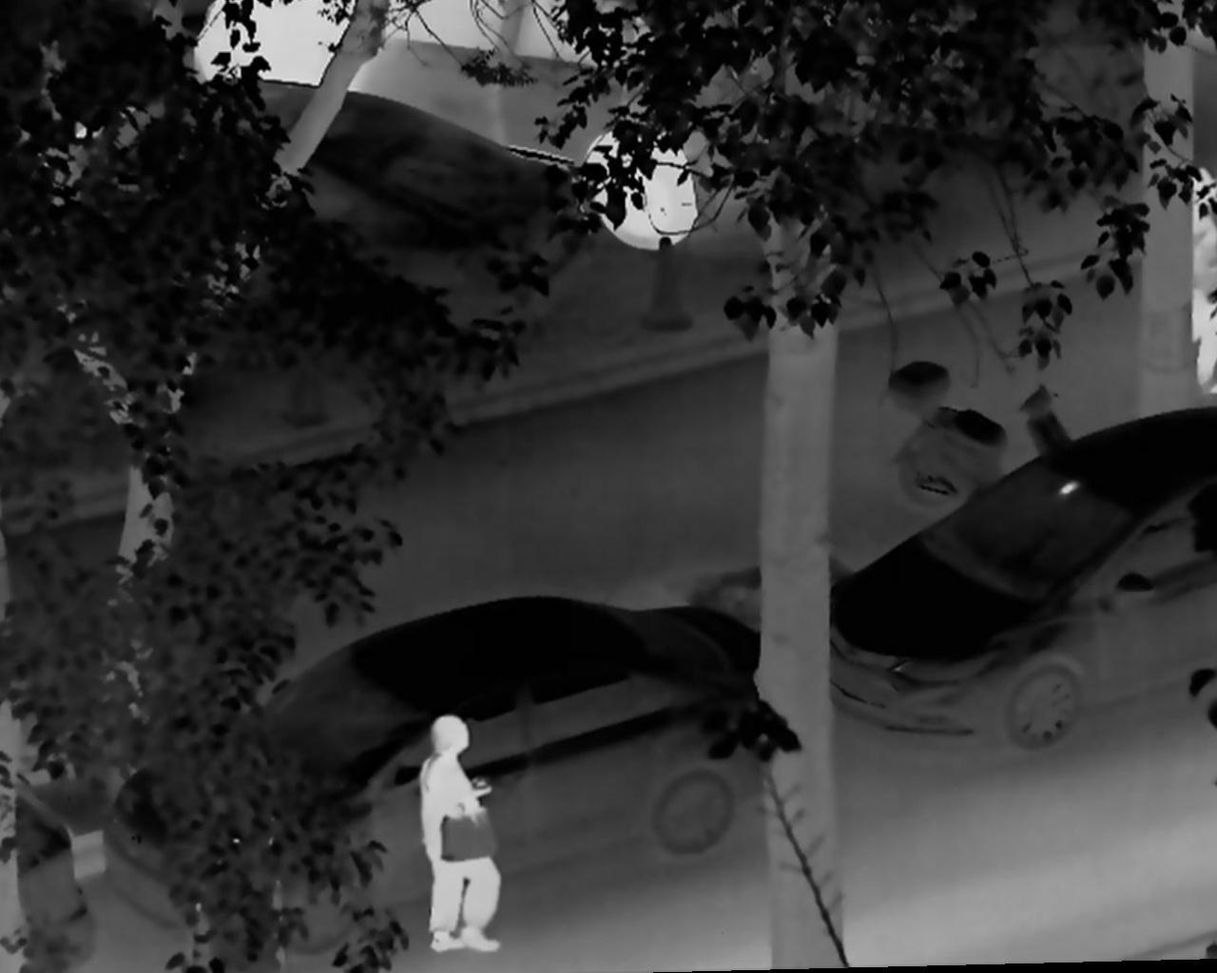person: (403, 705, 518, 959), (1179, 182, 1217, 395), (1175, 166, 1213, 344)
